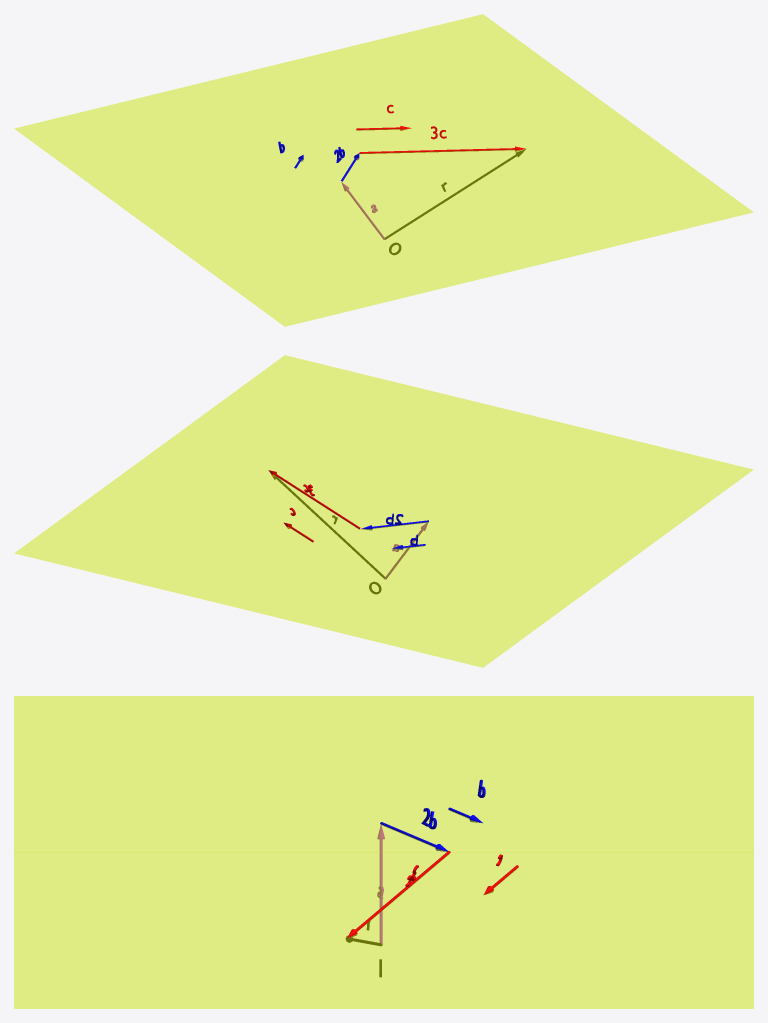
The picture shows the model from 3 angles, top to bottom: view 1: azimuth 30°, elevation 25°; view 2: azimuth 150°, elevation 25°; view 3: azimuth 270°, elevation 25°; orthographic projection. The views are drawn at different scales.
Parts seen in each view (by area): view 1: f; view 2: f; view 3: f.
Part boxes in pixels (x1,y1,x2,y2): f: (14,14,753,326); f: (14,355,753,667); f: (14,696,753,1008).
Size of the model in its own units: 0.217 by 0.0478 by 0.217.
